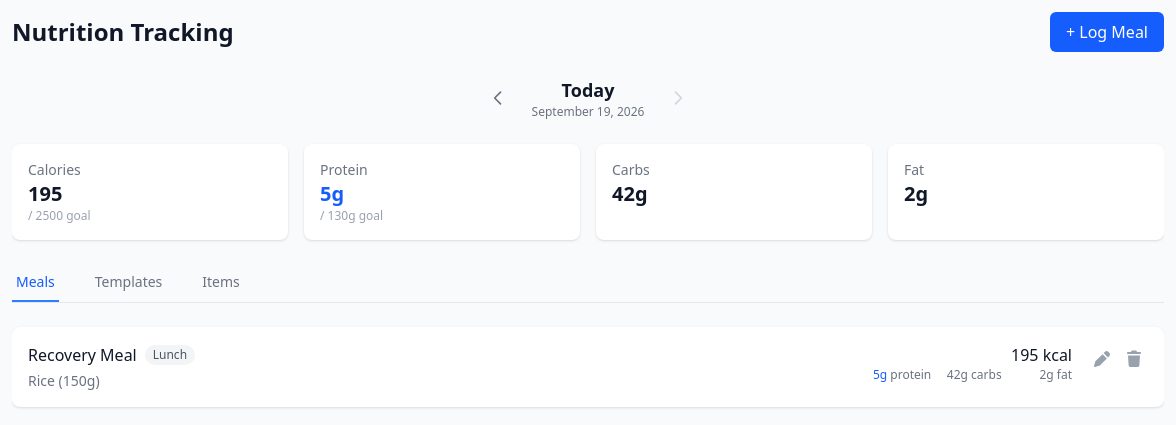
Test: accessibility core suite v3 › page-level semantics › uses named dates, real tab state, and contextual nutrition actions
expect the heading "Nutrition Tracking" is shown: met, box top-left (12, 16), bottom-right (234, 48)
expect the button named "Go to previous day" is enabled: met, box top-left (480, 80), bottom-right (516, 116)
Click the tab "Items" at point(221, 283), box top-left (198, 264), bottom-right (244, 302)
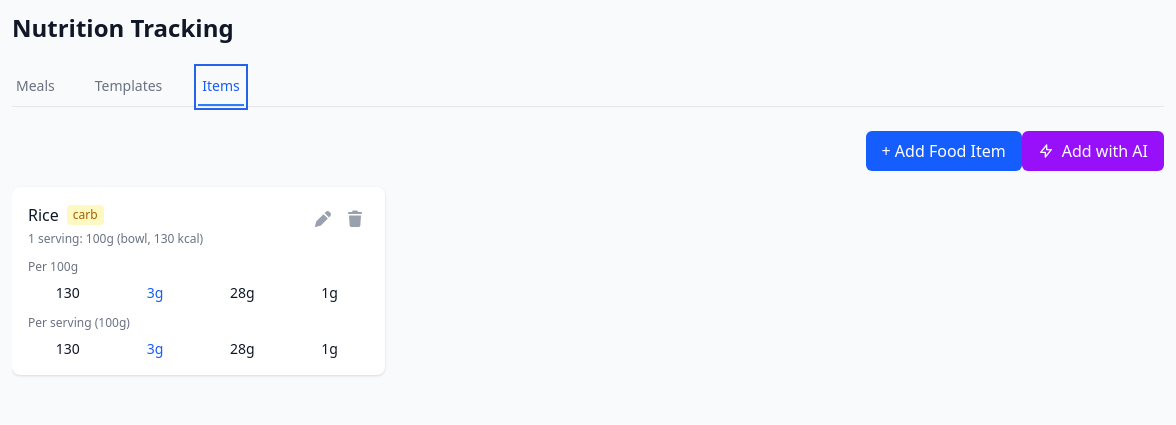
expect the button "Add with AI" is shown: met, box top-left (1022, 131), bottom-right (1164, 171)
